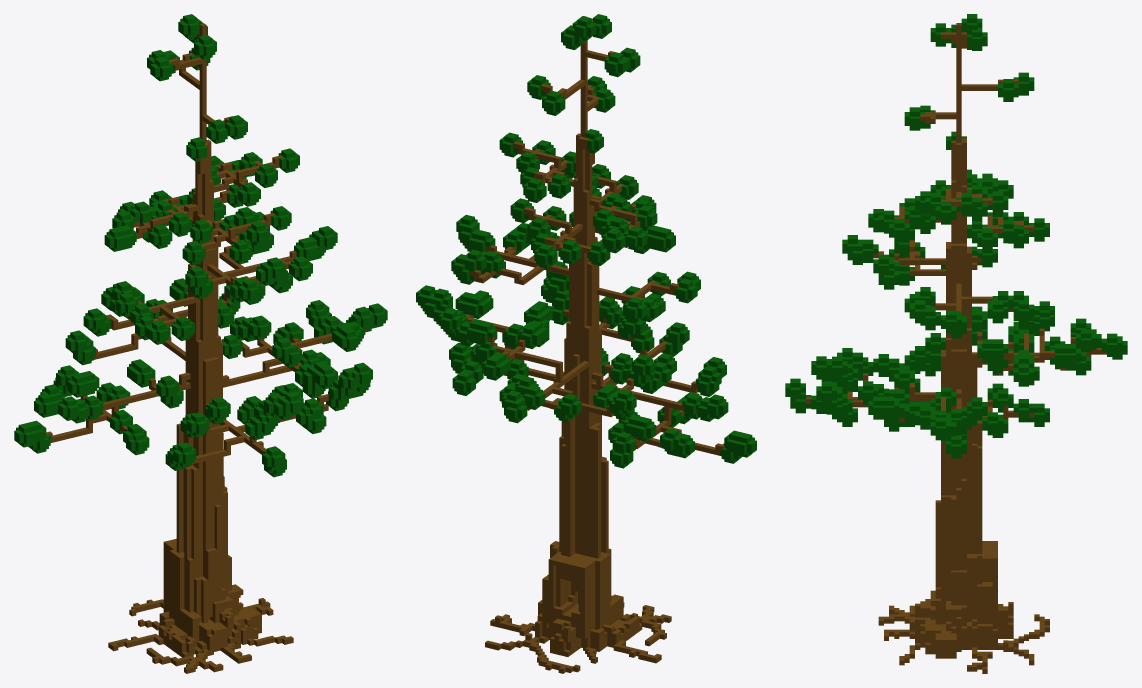
Rendered from PineTree.obj.
3 renders of one model, left to right at view 1: azimuth 30°, elevation 25°; view 2: azimuth 150°, elevation 25°; view 3: azimuth 270°, elevation 25°, orthographic.
Size of the model in its own units: 7.8 by 13.1 by 6.6.
1 material, 1 textured.
